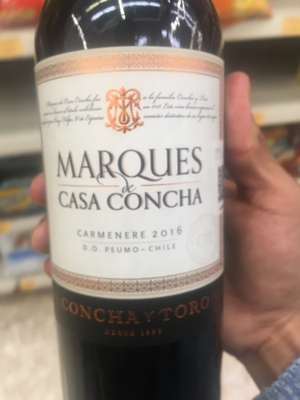marques de casa concha carmenere: (31, 8, 233, 400)
